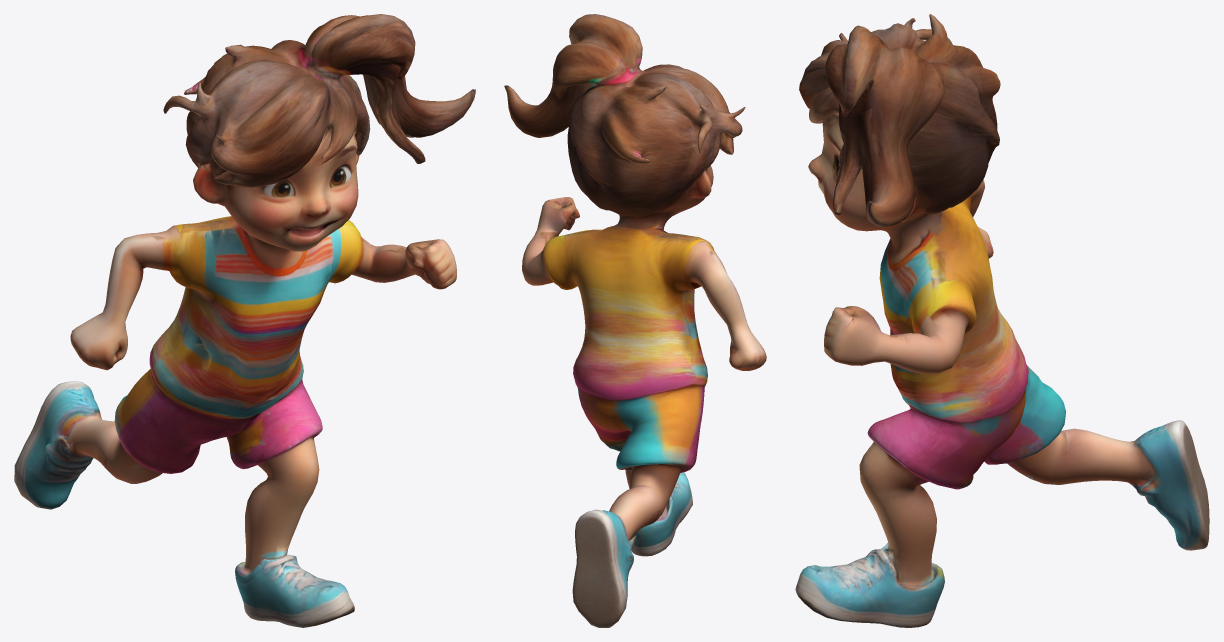
The model's file is girl_running.glb.
3 renders of one model, left to right at view 1: azimuth 30°, elevation 25°; view 2: azimuth 150°, elevation 25°; view 3: azimuth 270°, elevation 25°, orthographic. The views are drawn at different scales.
Visible parts, largest first — view 1: Mesh1_Mesh1.083; view 2: Mesh1_Mesh1.083; view 3: Mesh1_Mesh1.083.
Part boxes in pixels (x1,y1,x2,y2): Mesh1_Mesh1.083: (14, 14, 475, 627); Mesh1_Mesh1.083: (504, 14, 766, 627); Mesh1_Mesh1.083: (795, 14, 1209, 627).
Bounding box in the file's own units: 1.23 × 2 × 1.2.
1 material, 1 textured.
